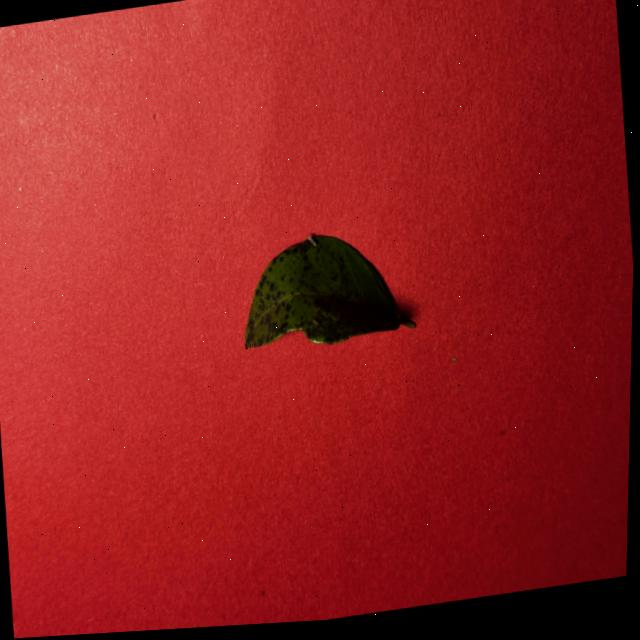sooty_mold: (244, 236, 414, 349)
